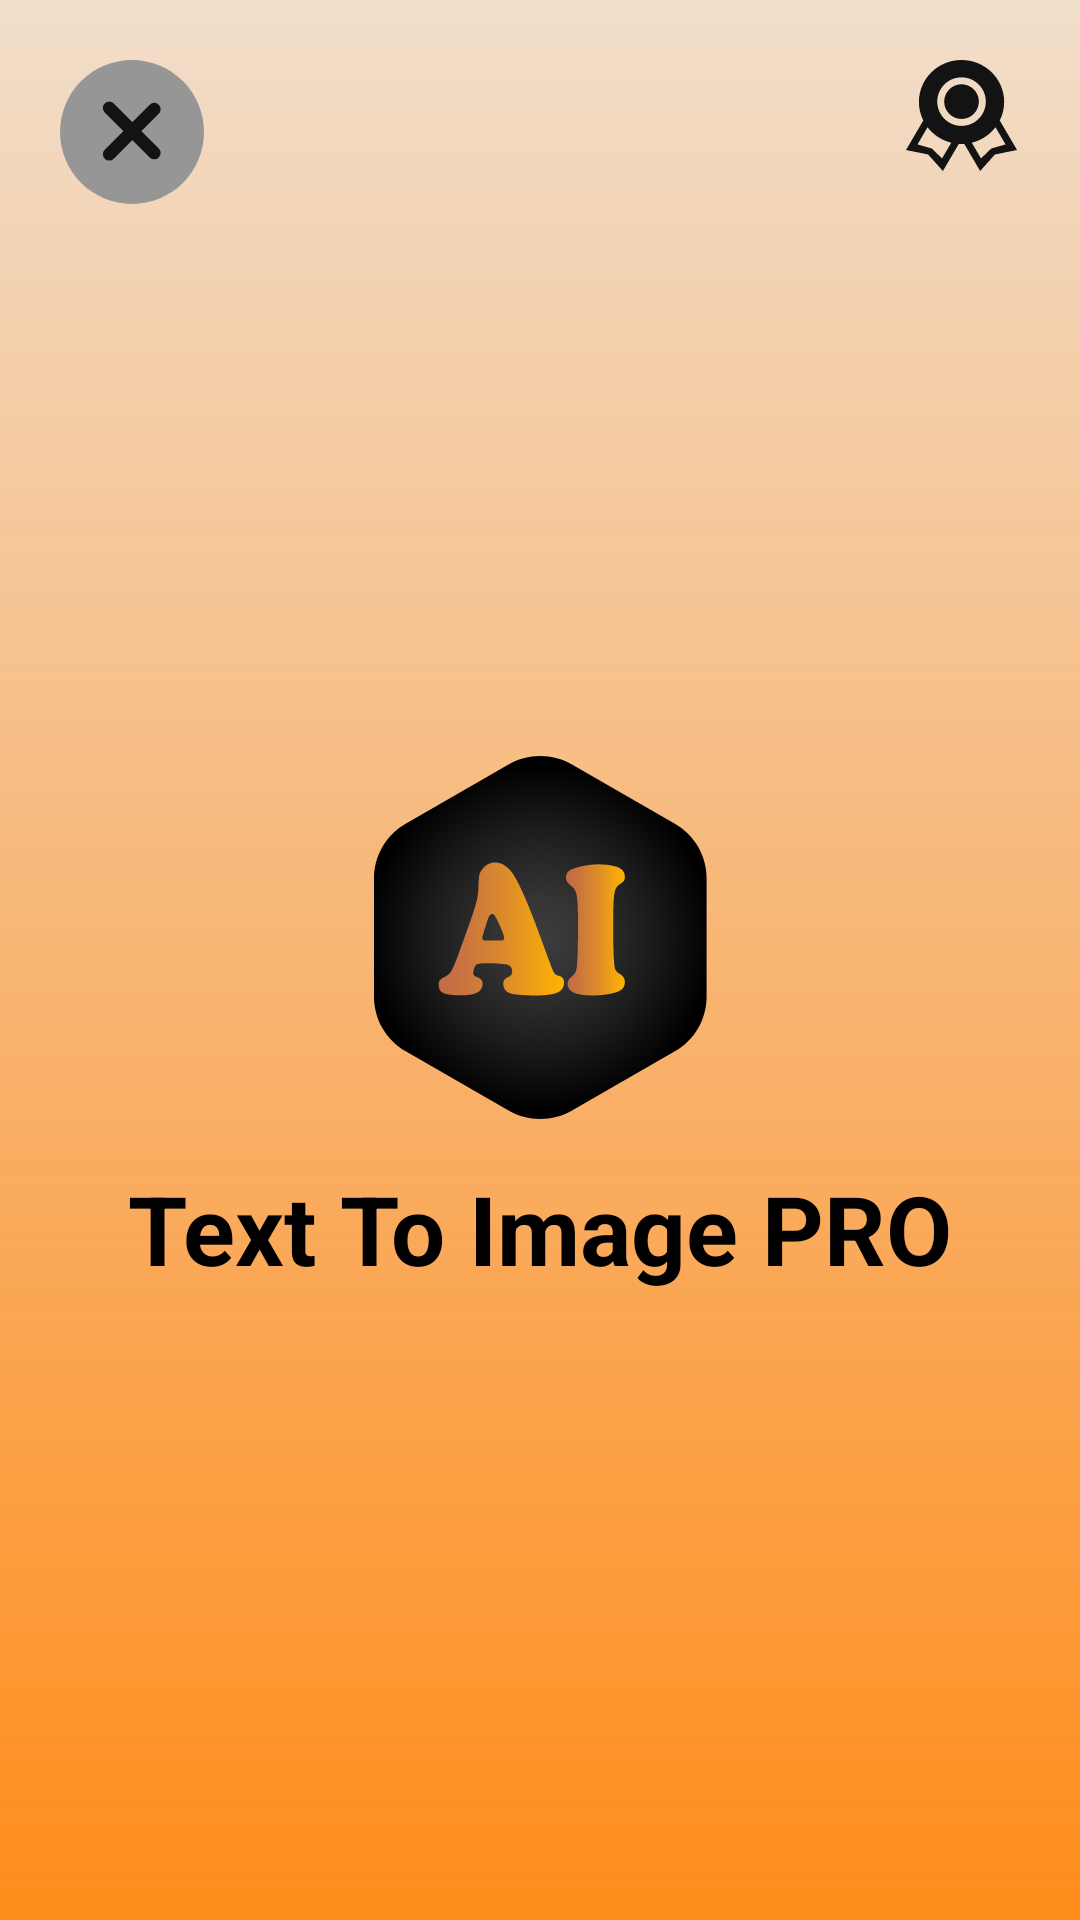

Where icons sit on this 1080w x 1920h app screen, as rect(x1, y1, x2, y2):
cancle: rect(60, 60, 204, 204)
